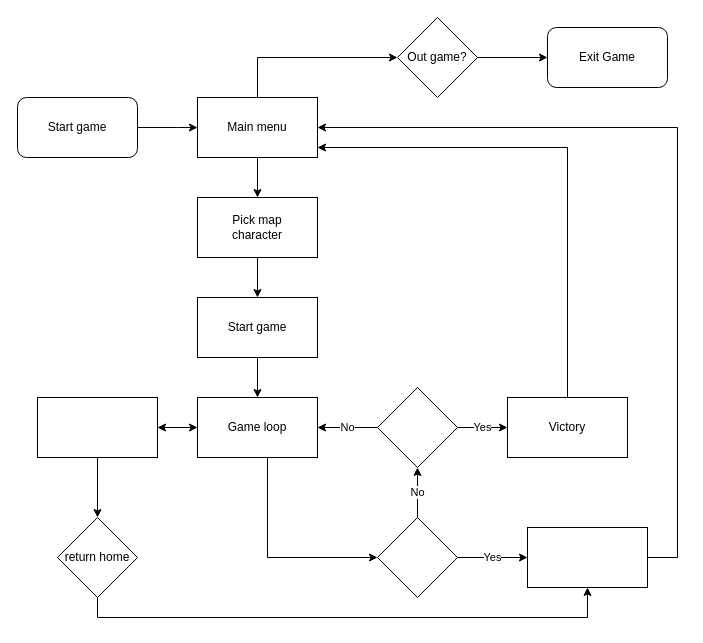
The diagram is 703 pixels wide and 643 high, and some of its shapes have lost their labels. The centre of each missing label's shape, as x and y in pixels:
"Defeat" goes at (587,557).
"Enemies die all?" goes at (417,427).
"Option Menu" goes at (97,427).
"Play die?" goes at (417,557).
